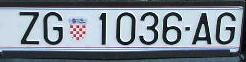-: (184, 26, 191, 31)
0: (115, 12, 136, 45)
1: (99, 12, 108, 45)
3: (138, 12, 158, 45)
6: (161, 12, 181, 46)
A: (192, 13, 212, 45)
G: (42, 12, 64, 45), (215, 12, 236, 44)
Z: (18, 12, 40, 46)
